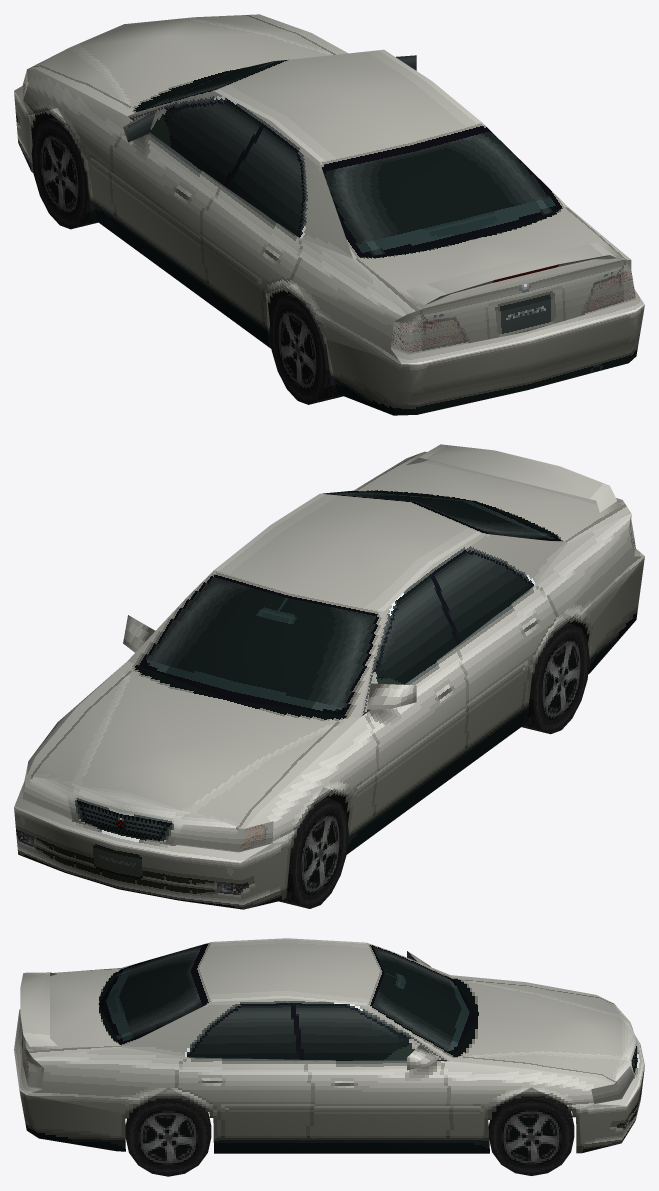
File: GT_SIMULATION__TCHVN.glb
3 views of the same model, one above another, from view 1: azimuth 30°, elevation 25°; view 2: azimuth 150°, elevation 25°; view 3: azimuth 270°, elevation 25° (orthographic). The views are drawn at different scales.
Parts seen in each view (by area): view 1: Native body LOD0, Native wheel 2, Native wheel 0; view 2: Native body LOD0, Native wheel 0, Native wheel 2; view 3: Native body LOD0, Native wheel 1, Native wheel 3.
Boxes of the visible parts, <box> form: Native body LOD0: <box>14,14,644,415</box>; Native wheel 2: <box>269,293,343,404</box>; Native wheel 0: <box>31,117,97,229</box>; Native body LOD0: <box>14,444,644,909</box>; Native wheel 0: <box>279,797,348,908</box>; Native wheel 2: <box>522,623,589,734</box>; Native body LOD0: <box>14,938,644,1153</box>; Native wheel 1: <box>488,1096,574,1175</box>; Native wheel 3: <box>125,1098,211,1176</box>.
Size of the model in its own units: 1.9 by 1.37 by 4.75.
12 materials, 11 textured.
